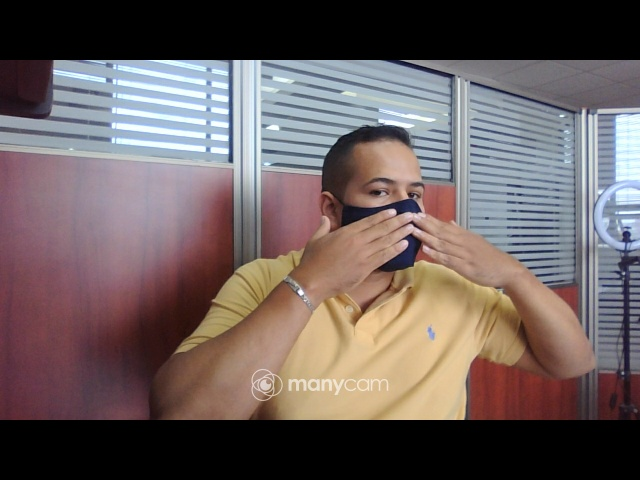Thanks: (294, 210, 534, 290)
